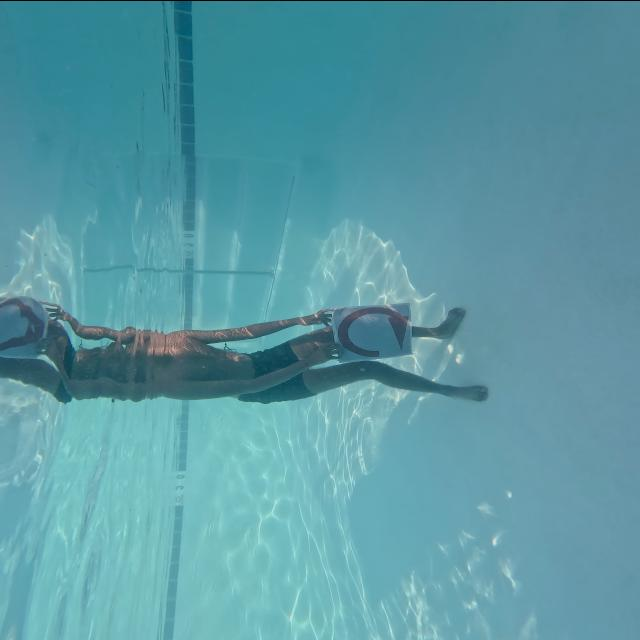red_side: (336, 304, 412, 359)
